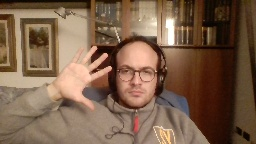Mano_aperta: (52, 42, 112, 110)
